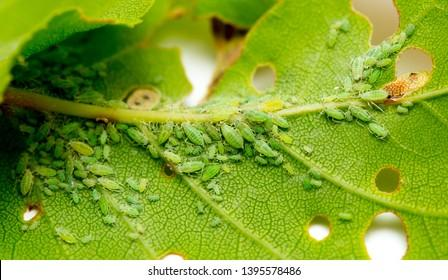insect: (172, 114, 208, 153), (214, 119, 248, 152), (355, 86, 393, 114), (13, 169, 39, 203), (121, 122, 151, 150), (48, 75, 81, 99), (261, 106, 291, 132), (364, 122, 396, 146), (151, 117, 175, 148), (69, 88, 106, 108), (67, 138, 98, 161), (13, 151, 34, 182), (316, 103, 344, 126), (199, 162, 227, 185), (53, 226, 80, 248), (176, 159, 209, 177), (253, 140, 281, 161), (33, 118, 54, 146), (84, 160, 116, 178), (95, 176, 124, 194), (347, 55, 366, 82), (323, 24, 340, 53), (51, 135, 68, 164), (56, 120, 83, 137), (33, 163, 59, 180), (99, 143, 116, 168), (143, 143, 164, 161), (372, 56, 394, 73), (96, 128, 112, 150), (337, 207, 356, 225), (191, 197, 209, 216), (68, 188, 85, 208), (123, 206, 143, 223), (142, 190, 163, 206), (305, 163, 322, 182), (278, 131, 296, 148), (366, 69, 383, 87), (136, 176, 151, 196), (119, 230, 142, 243), (212, 182, 228, 200), (386, 43, 406, 57), (305, 178, 326, 191), (208, 216, 224, 233), (300, 143, 316, 160), (405, 21, 419, 40), (392, 106, 413, 118), (39, 184, 53, 201), (101, 215, 119, 228), (254, 154, 269, 169), (272, 154, 285, 169), (399, 99, 415, 110)
